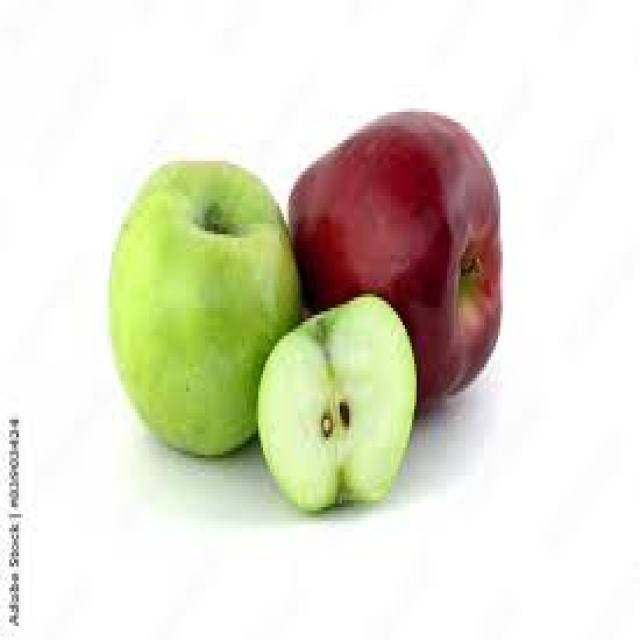non_orange: (262, 66, 634, 443), (85, 124, 322, 469), (233, 272, 438, 531)
